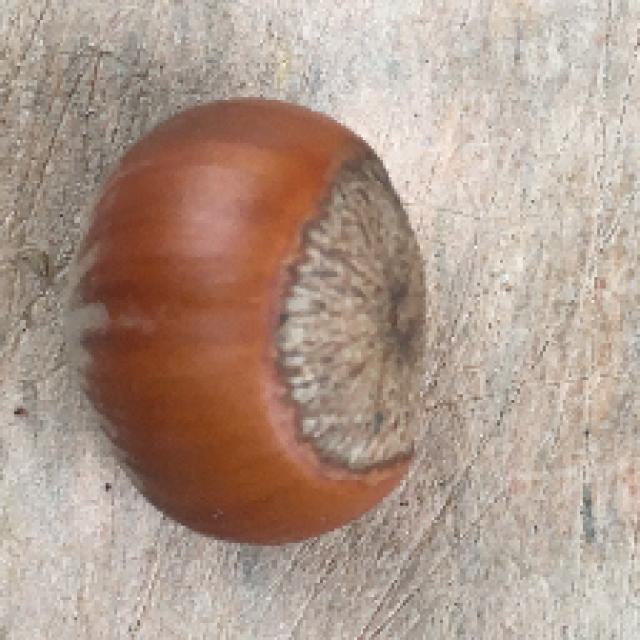qualityHazelnut: (61, 102, 435, 543)
